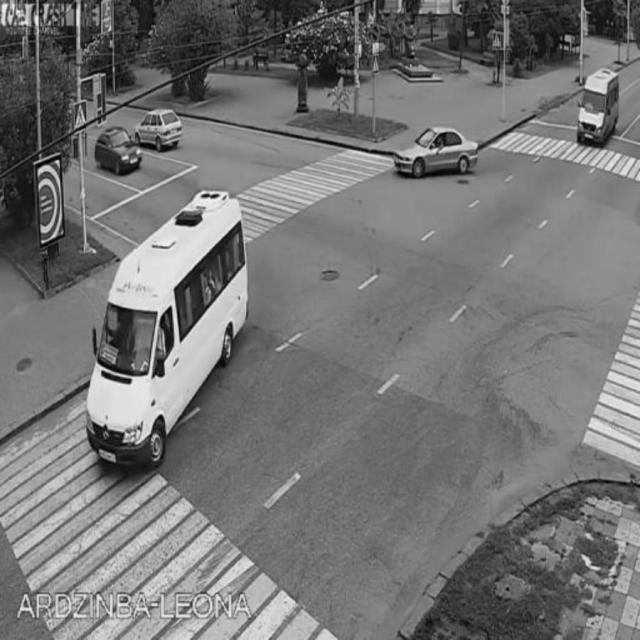vehicle: (88, 194, 250, 452), (394, 128, 480, 175), (578, 68, 620, 154), (93, 132, 139, 170), (139, 112, 184, 148)
